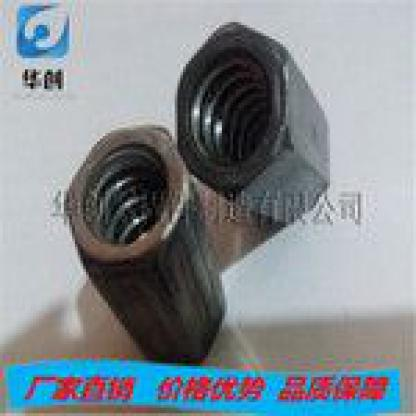FOD: (62, 119, 229, 366), (175, 18, 333, 229)
